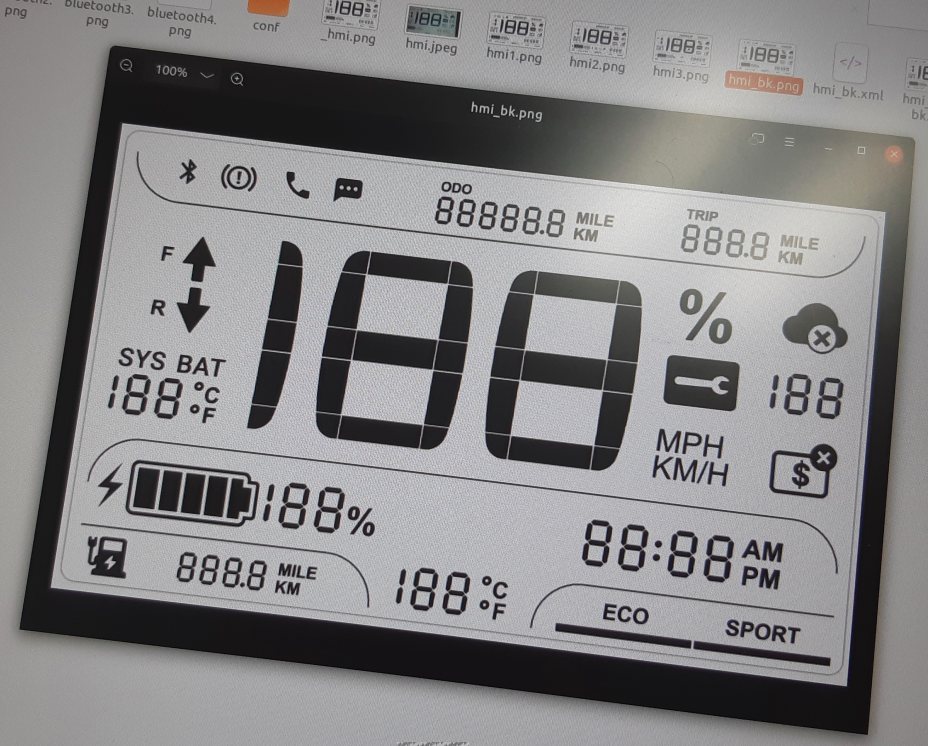bluetooth_on: (174, 154, 206, 189)
braking_on: (217, 161, 261, 194)
calling_on: (280, 164, 317, 204)
connection_lost: (778, 301, 853, 356)
error_code: (659, 354, 741, 416)
low_battery: (83, 531, 132, 583)
sms_on: (330, 174, 362, 210)
vin_id: (766, 440, 841, 501)
